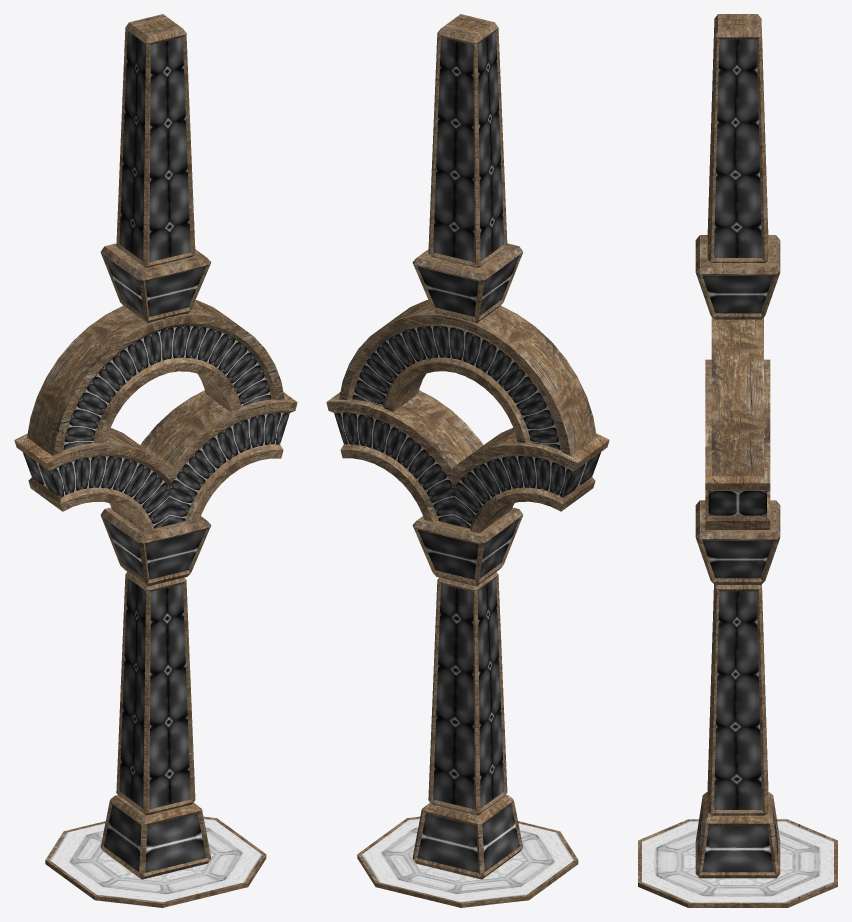
The model's file is column3.FBX.
3 renders of one model, left to right at view 1: azimuth 30°, elevation 25°; view 2: azimuth 150°, elevation 25°; view 3: azimuth 270°, elevation 25°, orthographic.
Parts seen in each view (by area): view 1: Box024; view 2: Box024; view 3: Box024.
Part boxes in pixels (box(x1,y1,x2,y2)): Box024: box(14, 14, 297, 907); Box024: box(326, 14, 609, 907); Box024: box(638, 14, 837, 907).
Bounding box in the file's own units: 154 × 490 × 105.
